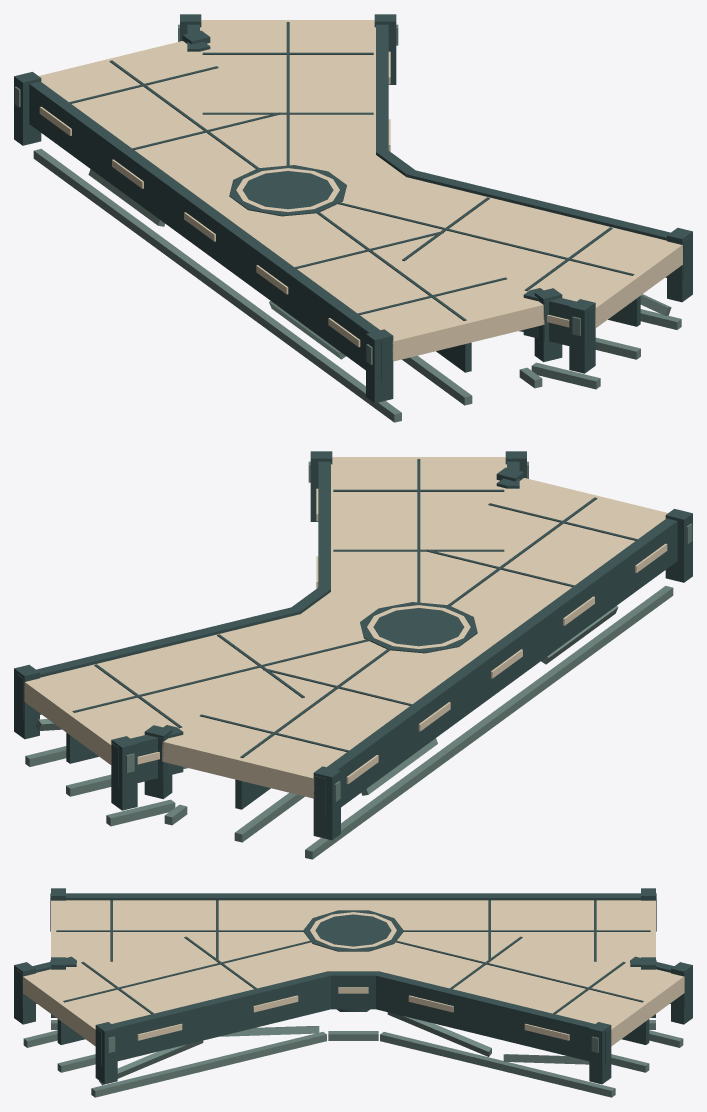
The model's file is Junction_Kletter60_lab2.glb.
3 renders of one model, top to bottom at view 1: azimuth 30°, elevation 25°; view 2: azimuth 150°, elevation 25°; view 3: azimuth 270°, elevation 25°, orthographic. The views are drawn at different scales.
Parts seen in each view (by area): view 1: Junction_Kletter60; view 2: Junction_Kletter60; view 3: Junction_Kletter60.
Part boxes in pixels (left/top/right/bottom): Junction_Kletter60: left=14, top=14, right=692, bottom=422; Junction_Kletter60: left=14, top=451, right=692, bottom=859; Junction_Kletter60: left=14, top=888, right=692, bottom=1097.
Bounding box in the file's own units: 6.42 × 1.58 × 12.8.
